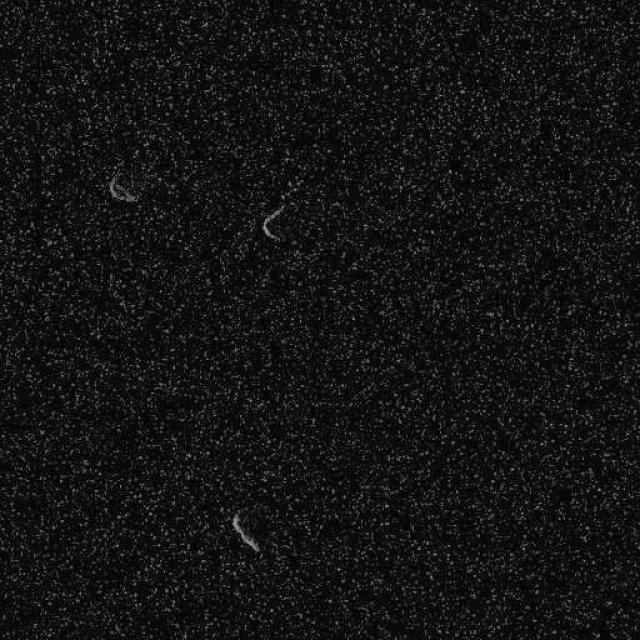D2: (230, 510, 261, 555), (260, 202, 288, 242), (108, 172, 138, 204)
